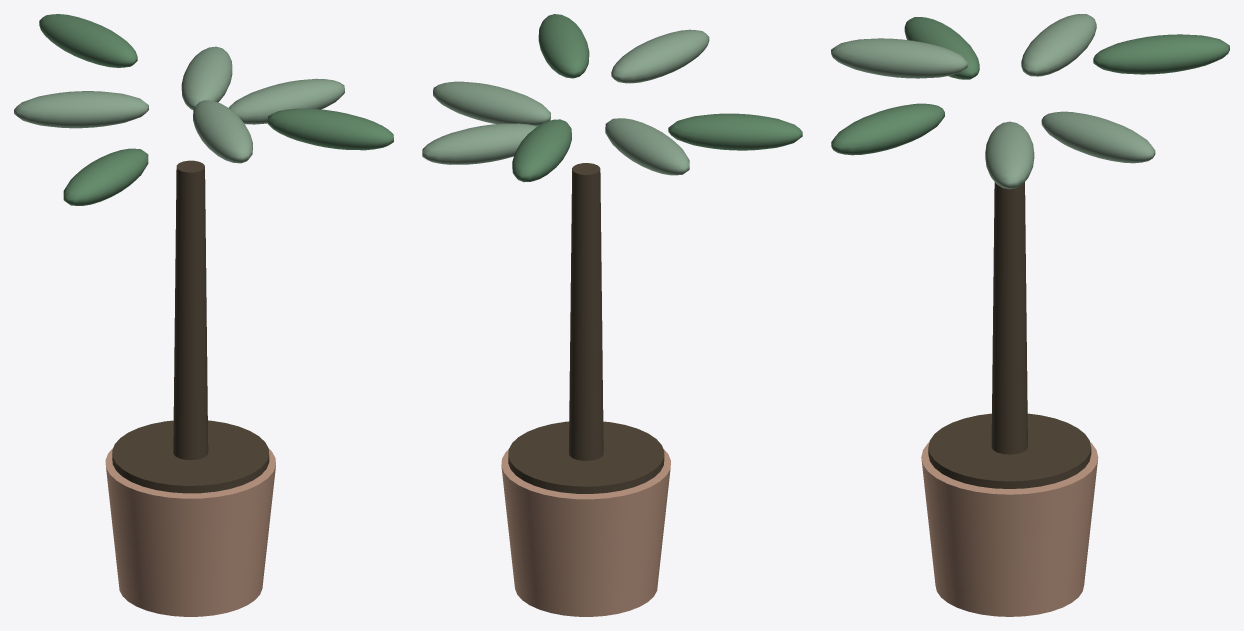
The model's file is plant_palm.glb.
3 renders of one model, left to right at view 1: azimuth 30°, elevation 25°; view 2: azimuth 150°, elevation 25°; view 3: azimuth 270°, elevation 25°, orthographic. The views are drawn at different scales.
Visible parts, largest first — view 1: PalmPot, PalmStem, PalmSoil, _MeshInstance3D_28, _MeshInstance3D_25, _MeshInstance3D_29, PalmLeaf, _MeshInstance3D_27, _MeshInstance3D_26, _MeshInstance3D_30; view 2: PalmPot, PalmStem, PalmSoil, _MeshInstance3D_27, PalmLeaf, _MeshInstance3D_30, _MeshInstance3D_26, _MeshInstance3D_28, _MeshInstance3D_29, _MeshInstance3D_25; view 3: PalmPot, PalmStem, PalmSoil, _MeshInstance3D_26, _MeshInstance3D_29, _MeshInstance3D_25, _MeshInstance3D_30, _MeshInstance3D_28, PalmLeaf, _MeshInstance3D_27.
Boxes of the visible parts, <box> form: PalmPot: <box>105,448,275,616</box>; PalmStem: <box>173,160,208,459</box>; PalmSoil: <box>112,420,269,493</box>; _MeshInstance3D_28: <box>14,91,148,128</box>; _MeshInstance3D_25: <box>268,108,393,150</box>; _MeshInstance3D_29: <box>39,14,137,67</box>; PalmLeaf: <box>229,78,344,124</box>; _MeshInstance3D_27: <box>63,148,148,205</box>; _MeshInstance3D_26: <box>193,100,252,163</box>; _MeshInstance3D_30: <box>181,46,232,109</box>; PalmPot: <box>501,449,670,616</box>; PalmStem: <box>569,163,603,460</box>; PalmSoil: <box>508,421,664,493</box>; _MeshInstance3D_27: <box>668,113,802,150</box>; PalmLeaf: <box>433,81,550,125</box>; _MeshInstance3D_30: <box>422,123,537,164</box>; _MeshInstance3D_26: <box>611,29,709,83</box>; _MeshInstance3D_28: <box>605,118,689,175</box>; _MeshInstance3D_29: <box>512,119,571,182</box>; _MeshInstance3D_25: <box>538,14,589,78</box>; PalmPot: <box>921,442,1098,616</box>; PalmStem: <box>991,182,1027,454</box>; PalmSoil: <box>928,413,1091,488</box>; _MeshInstance3D_26: <box>831,38,967,78</box>; _MeshInstance3D_29: <box>1093,34,1229,74</box>; _MeshInstance3D_25: <box>831,103,944,155</box>; _MeshInstance3D_30: <box>1041,111,1155,163</box>; _MeshInstance3D_28: <box>1021,14,1096,76</box>; PalmLeaf: <box>985,121,1034,189</box>; _MeshInstance3D_27: <box>904,17,979,79</box>.
Size of the model in its own units: 1.09 by 1.66 by 1.13.
